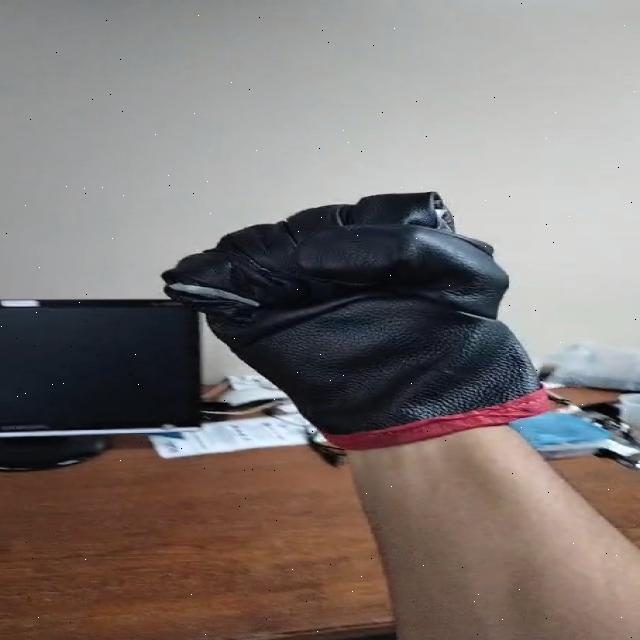Gloves: (162, 192, 555, 446)
